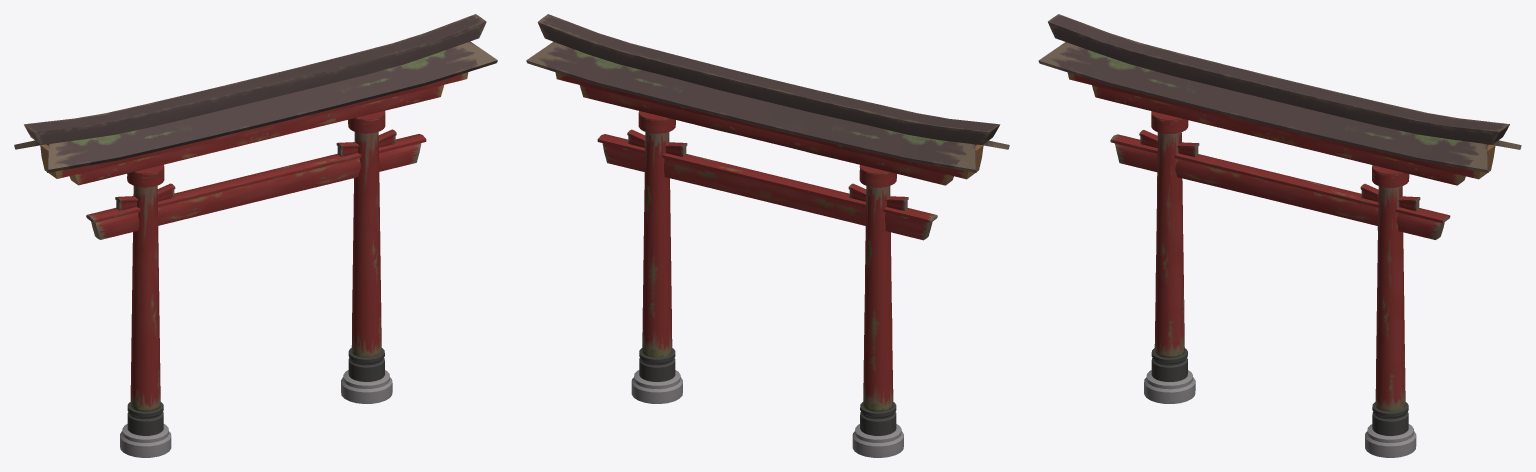
File: japanese-door.glb
3 renders of one model, left to right at view 1: azimuth 30°, elevation 25°; view 2: azimuth 150°, elevation 25°; view 3: azimuth 330°, elevation 25°, orthographic.
Visible parts, largest first — view 1: pillar; view 2: pillar; view 3: pillar.
Boxes of the visible parts, x1,y1,x2,y2 form: pillar: (14,14,497,457); pillar: (526,14,1009,457); pillar: (1038,14,1521,457).
Size of the model in its own units: 41.19 by 30.21 by 5.4.
Materials: 1 (1 with a texture image).
